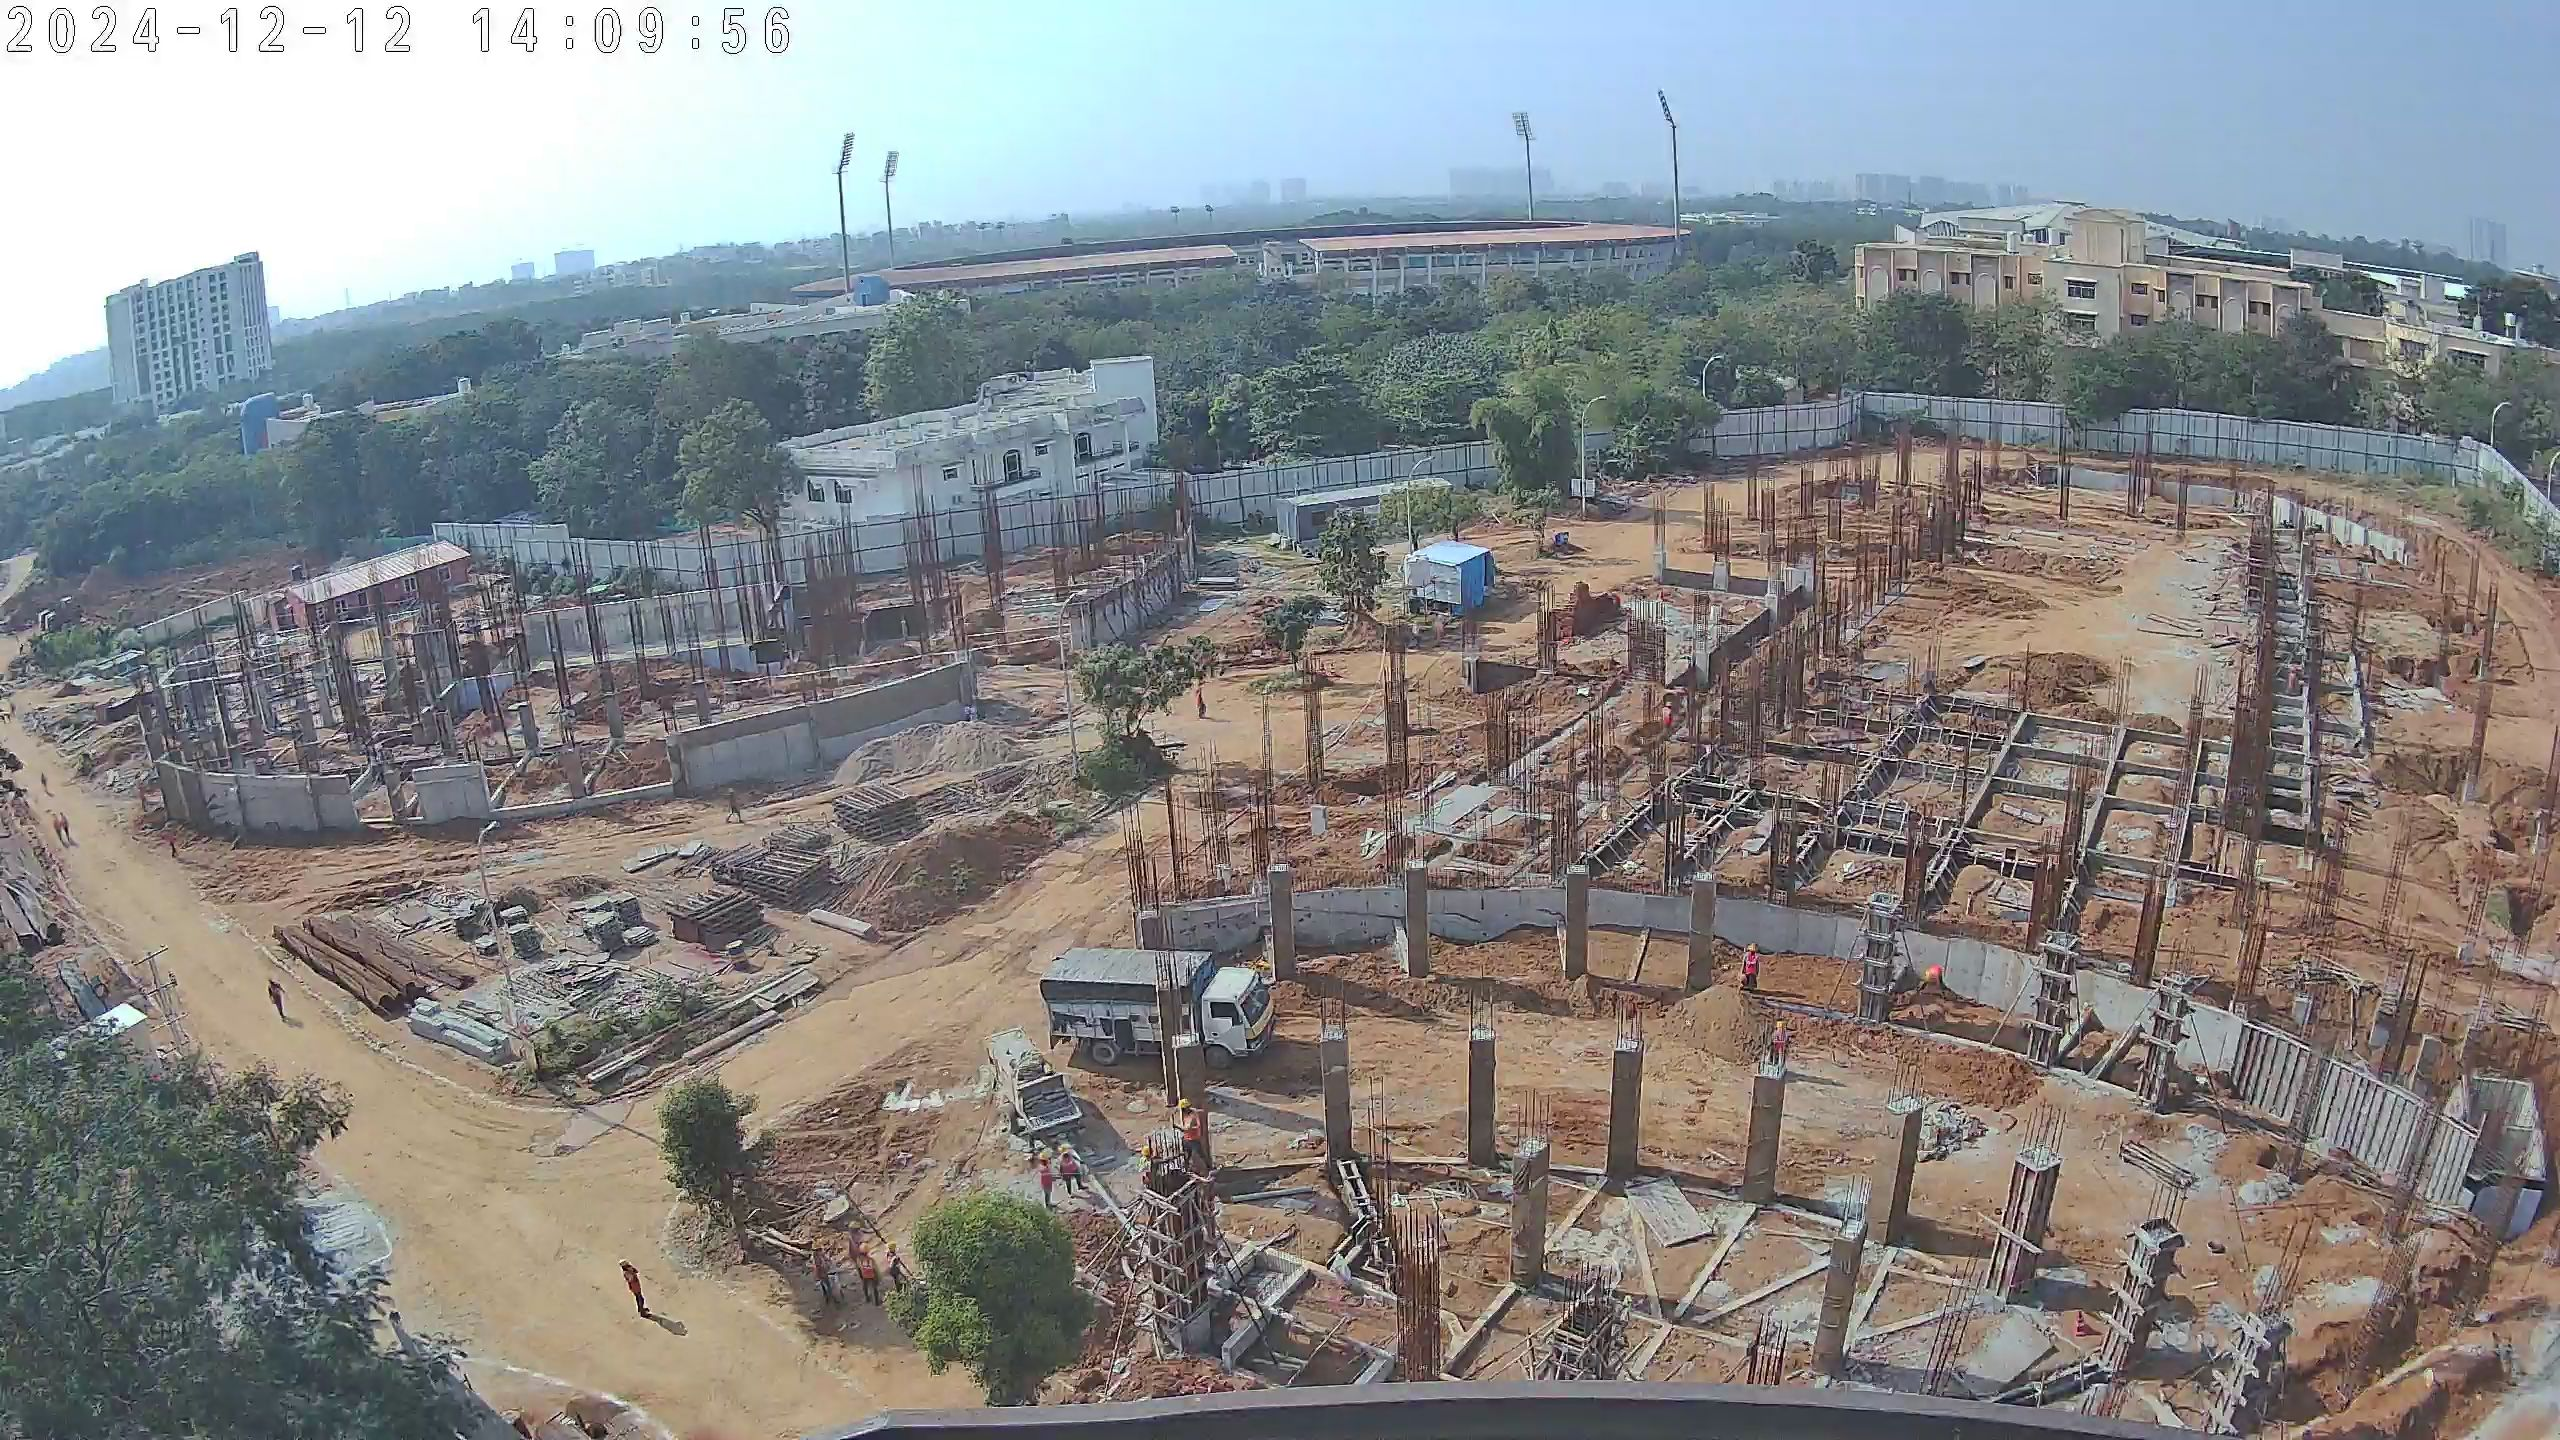truck: (1039, 941, 1281, 1081)
worker: (801, 1233, 854, 1322), (1172, 1093, 1214, 1179), (614, 1254, 656, 1325), (880, 1231, 916, 1308), (850, 1243, 887, 1315), (845, 1216, 881, 1289), (1031, 1147, 1067, 1212), (1054, 1140, 1094, 1198), (1735, 935, 1766, 1000), (1134, 1138, 1165, 1203), (264, 970, 291, 1043), (1917, 958, 1951, 1009), (1764, 1022, 1793, 1077), (1189, 670, 1216, 722), (720, 779, 744, 829), (1654, 696, 1679, 737), (56, 803, 77, 848), (1404, 611, 1425, 650), (48, 809, 64, 848), (39, 768, 55, 800)
